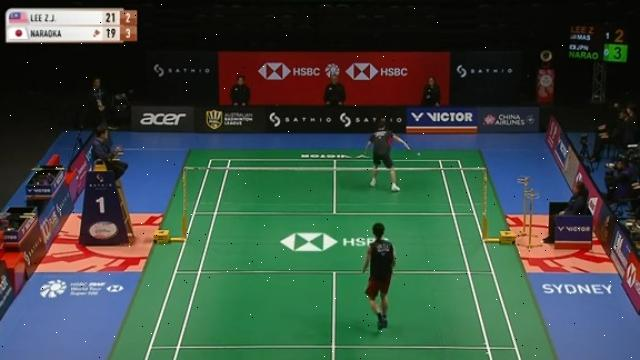Shuttlecock: (415, 148, 423, 160)
